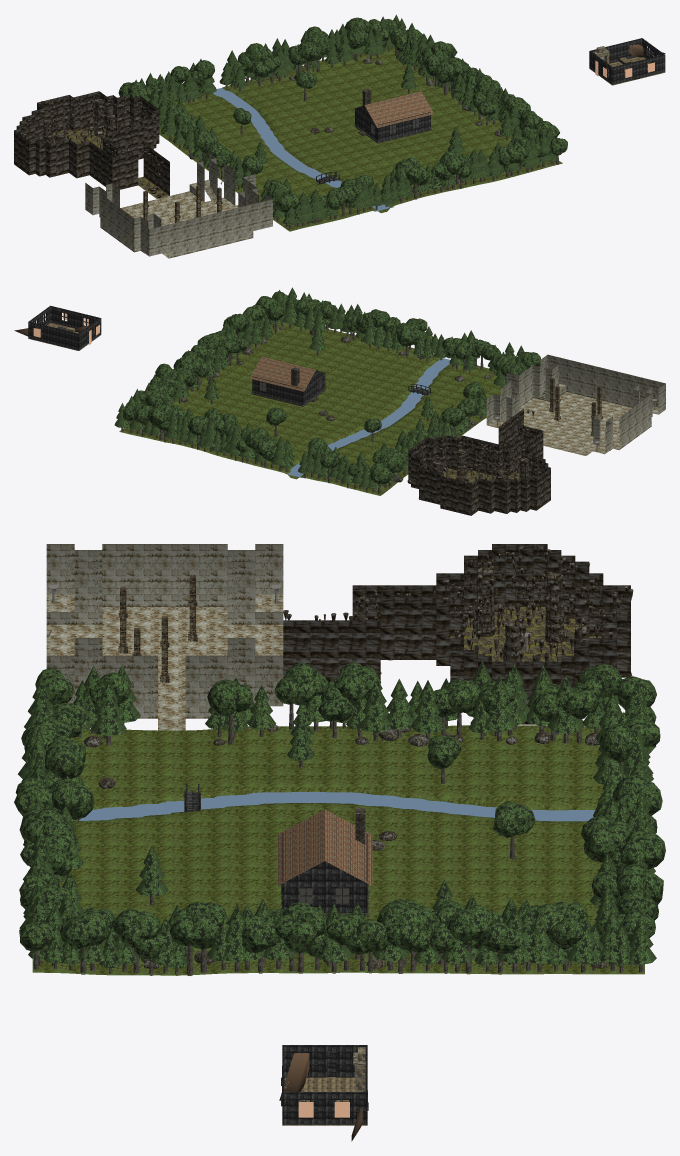
File: sala.glb
3 views of the same model, one above another, from view 1: azimuth 30°, elevation 25°; view 2: azimuth 150°, elevation 25°; view 3: azimuth 270°, elevation 25° (orthographic). The views are drawn at different scales.
Visible parts, largest first — view 1: n182, n177, n101, n179, n0, n181, n184, n195, n48, n75, n54, n69 (+14 smaller); view 2: n182, n177, n0, n101, n179, n181, n184, n195, n48, n5, n69, n206 (+12 smaller); view 3: n182, n177, n0, n179, n48, n184, n195, n54, n181, n73, n46, n180 (+21 smaller).
Part boxes in pixels (x1,y1,x2,y2): n182: (118,14,567,225); n177: (159,47,562,231); n101: (149,199,272,258); n179: (17,93,164,197); n0: (120,179,238,258); n181: (162,48,558,229); n184: (213,88,393,211); n195: (354,91,433,127); n48: (100,194,134,251); n75: (112,151,138,189); n54: (143,143,169,195); n69: (106,124,144,159); n182: (114,287,540,488); n177: (119,323,501,495); n0: (487,383,658,455); n101: (547,354,665,407); n179: (407,410,543,511); n181: (121,315,503,493); n184: (285,358,449,477); n195: (249,356,326,391); n48: (619,394,651,449); n5: (440,476,471,515); n69: (462,435,499,475); n206: (28,321,79,350); n182: (14,661,665,968); n177: (32,725,644,975); n0: (46,594,283,730); n179: (283,545,633,676); n48: (102,544,227,606); n184: (79,792,595,821); n195: (277,809,372,885); n54: (283,620,380,683); n181: (33,704,643,975); n73: (380,597,436,659); n46: (492,544,547,606); n180: (450,607,601,661).
Size of what is drawn, in the model's own units: 184 by 14.32 by 93.72.
Materials: 28 (18 with a texture image).
